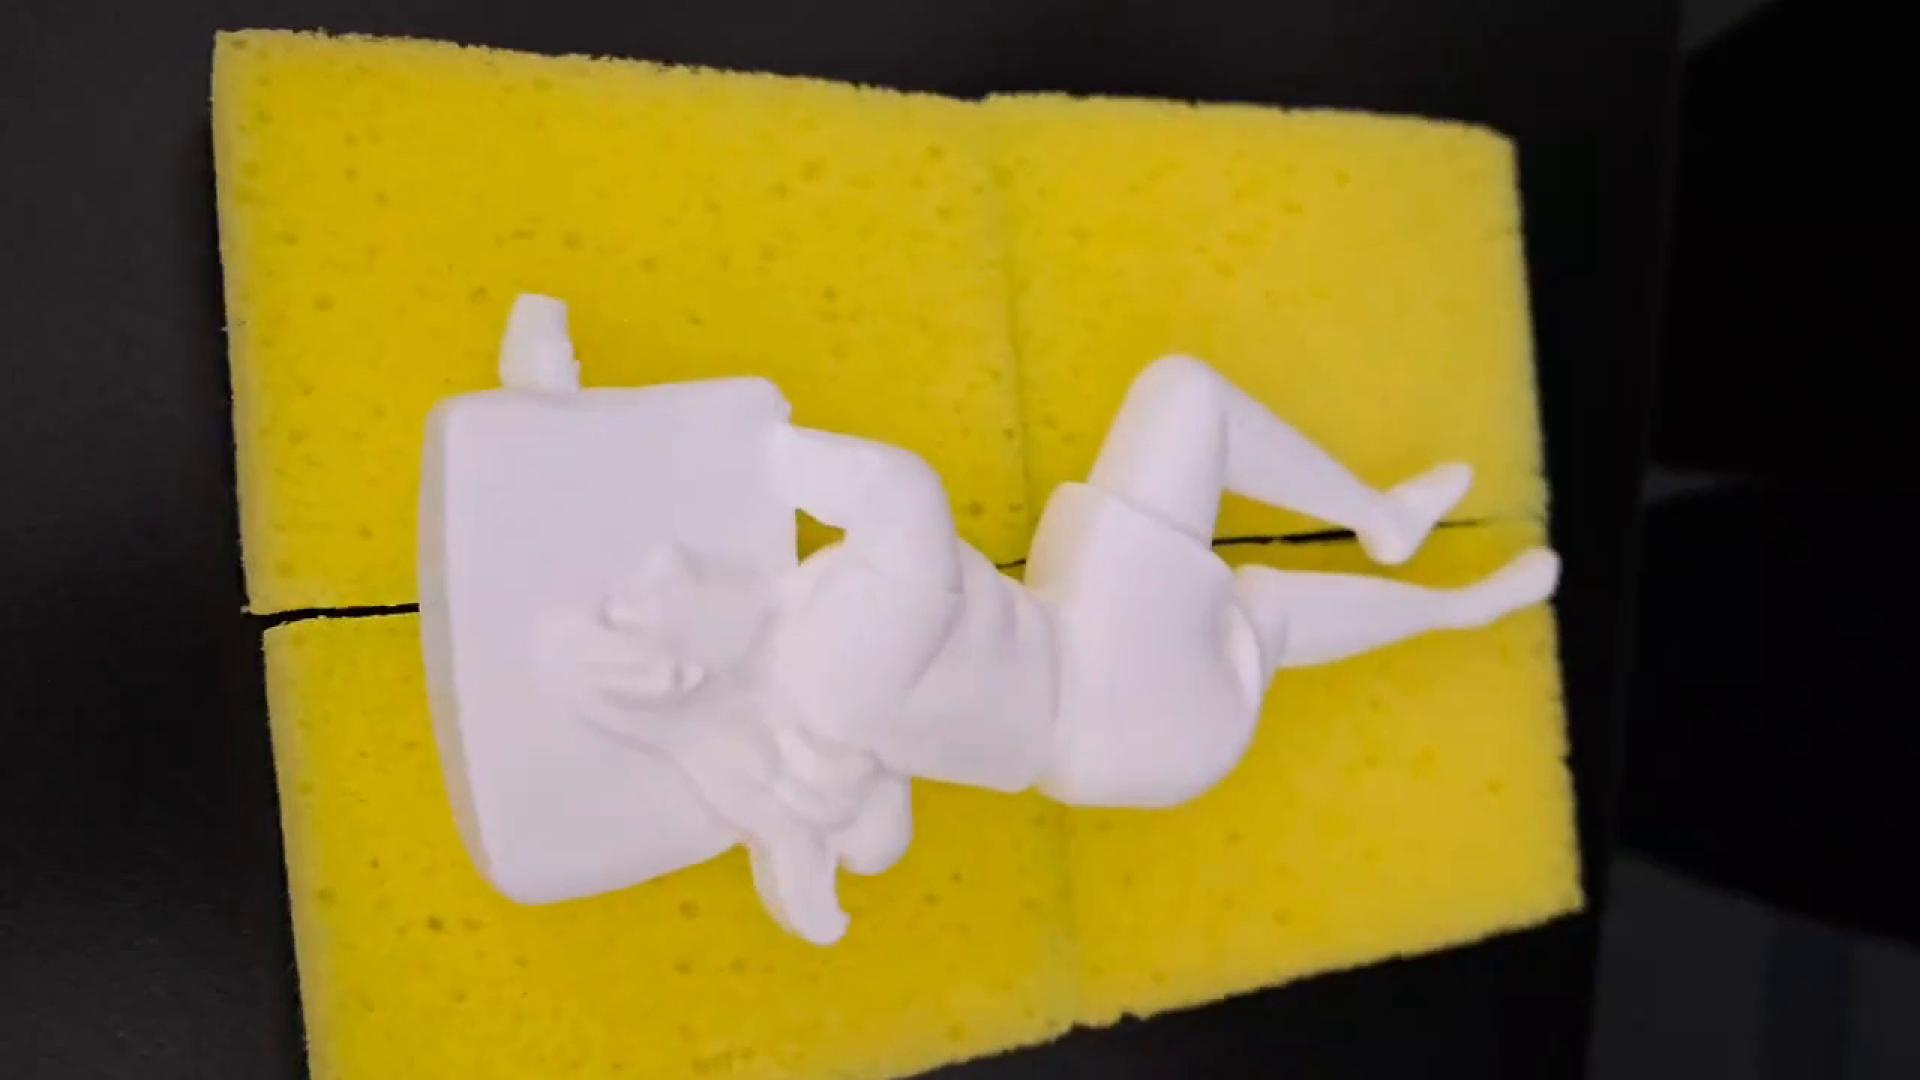Good-style: (426, 291, 1561, 952)
